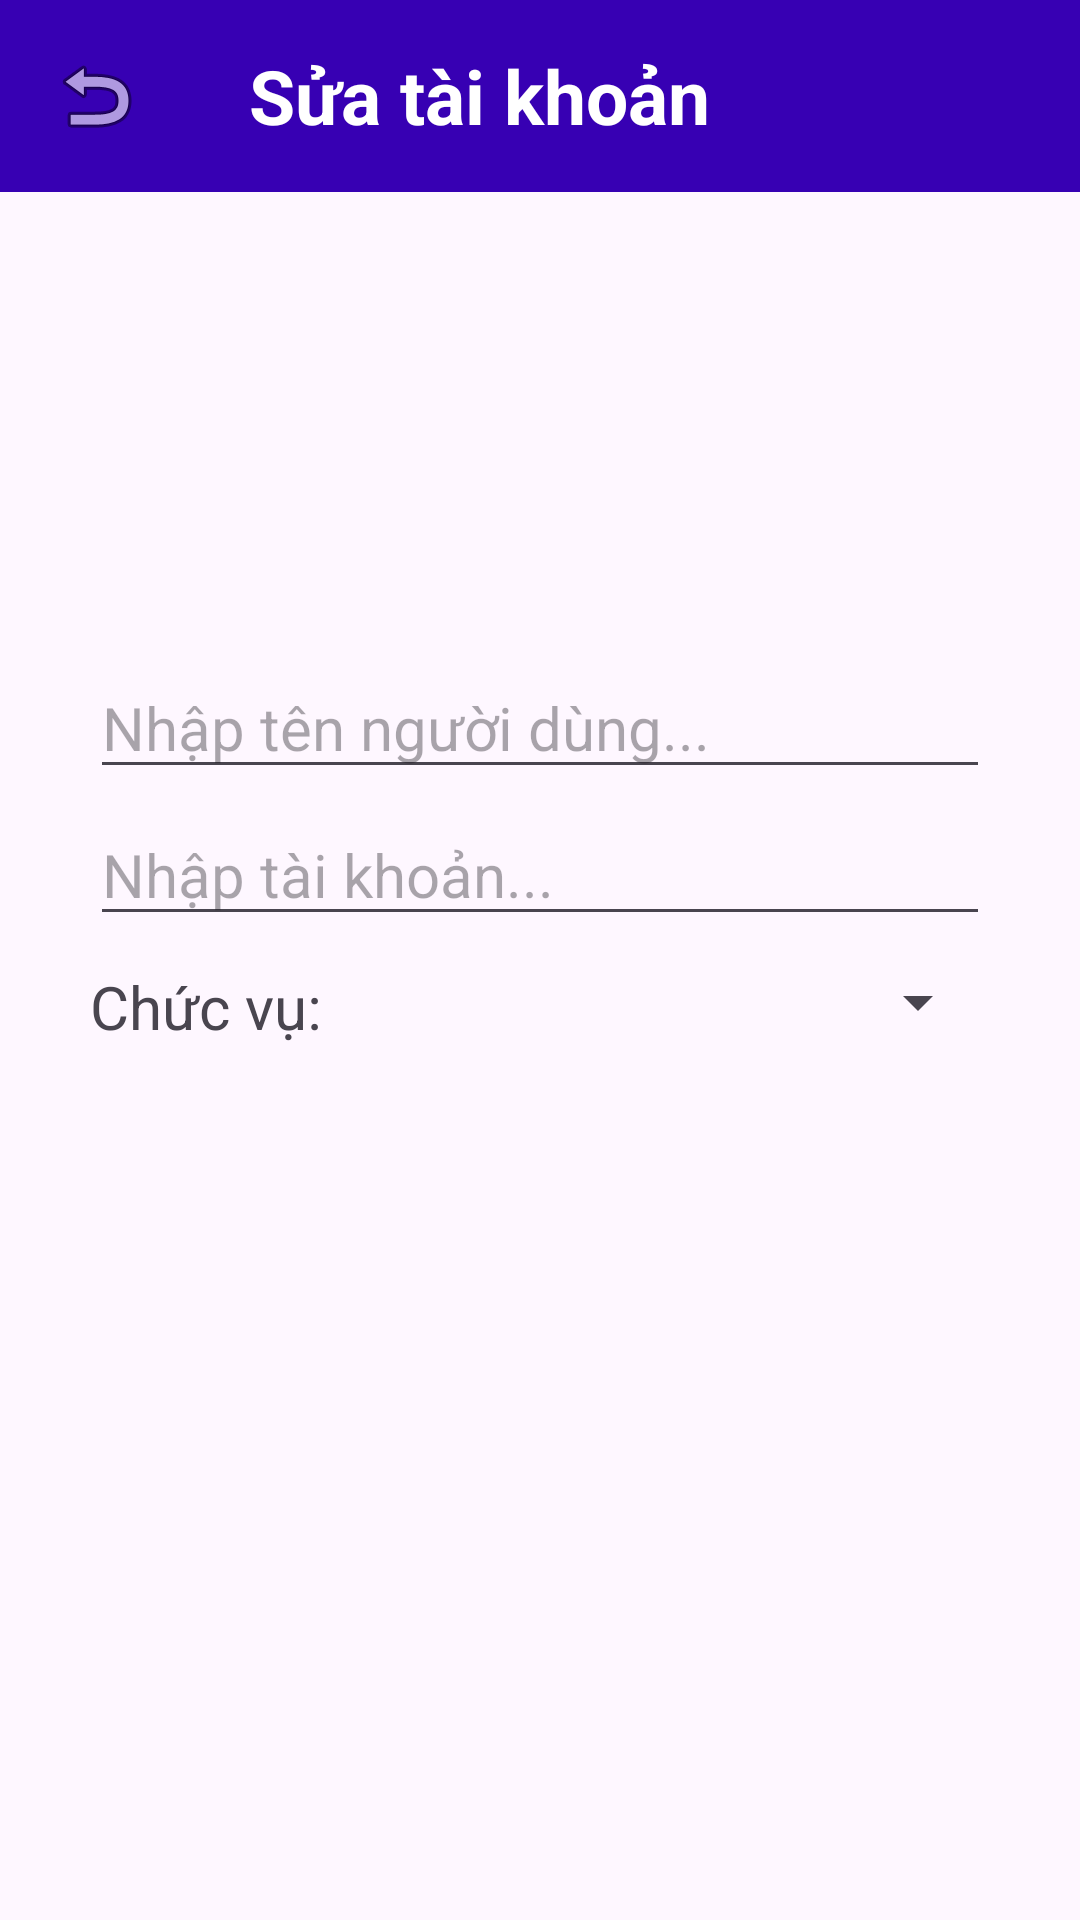

Icon bounding boxes for this 1080×1920 phone screenshot, format box(x1, y1, x2, y2):
Quay lại: box(63, 65, 132, 128)
